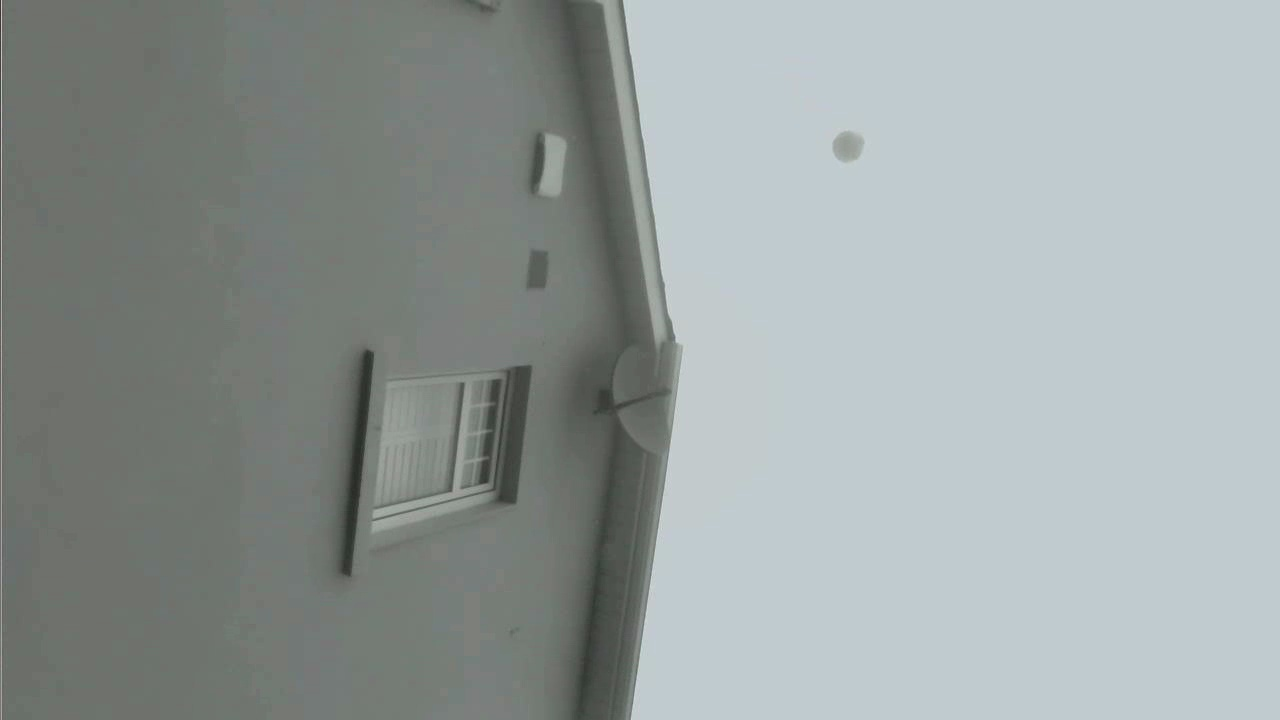Football-Spotter: (833, 130, 864, 162)
